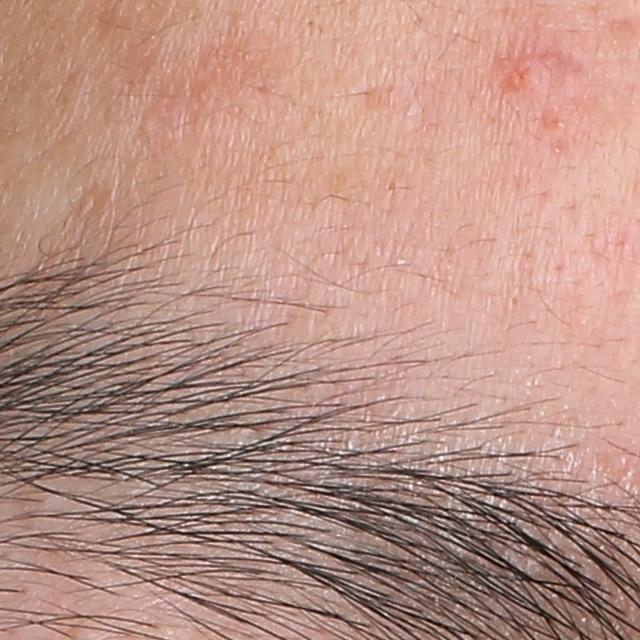papule: (496, 52, 546, 98)
